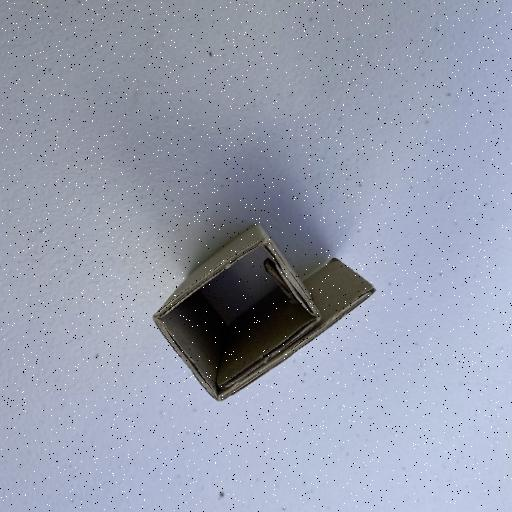Cardboard: (150, 222, 376, 402)
